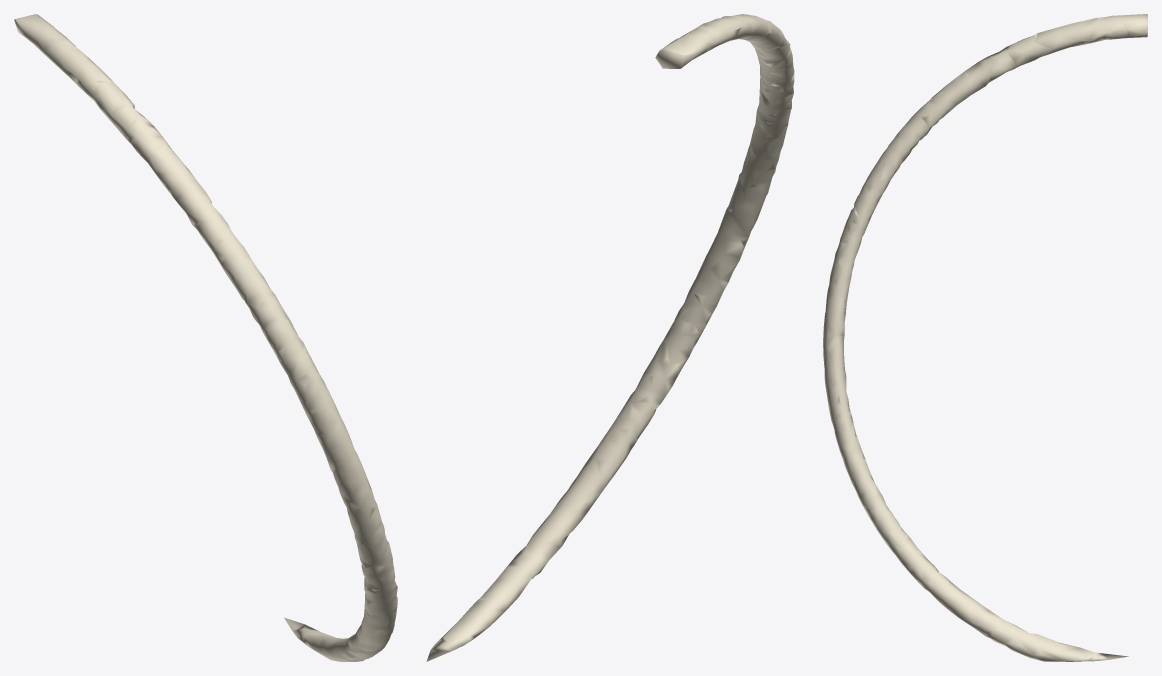
Rendered from rib_7_l.glb.
The picture shows the model from 3 angles, left to right: view 1: azimuth 30°, elevation 25°; view 2: azimuth 150°, elevation 25°; view 3: azimuth 270°, elevation 25°; orthographic projection. The views are drawn at different scales.
Parts seen in each view (by area): view 1: geometry_0; view 2: geometry_0; view 3: geometry_0.
Boxes of the visible parts, bbox=[...] form: geometry_0: bbox=[14, 14, 397, 661]; geometry_0: bbox=[426, 14, 794, 661]; geometry_0: bbox=[823, 14, 1147, 661].
Size of the model in its own units: 0.3209 by 0.7333 by 0.3998.
